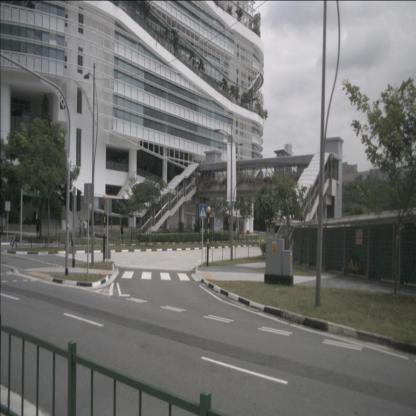human-pedestrian-adult: (83, 218, 88, 238), (36, 215, 40, 238), (120, 222, 124, 244), (79, 220, 82, 237)
vehicle-bicycle: (346, 250, 361, 278)
